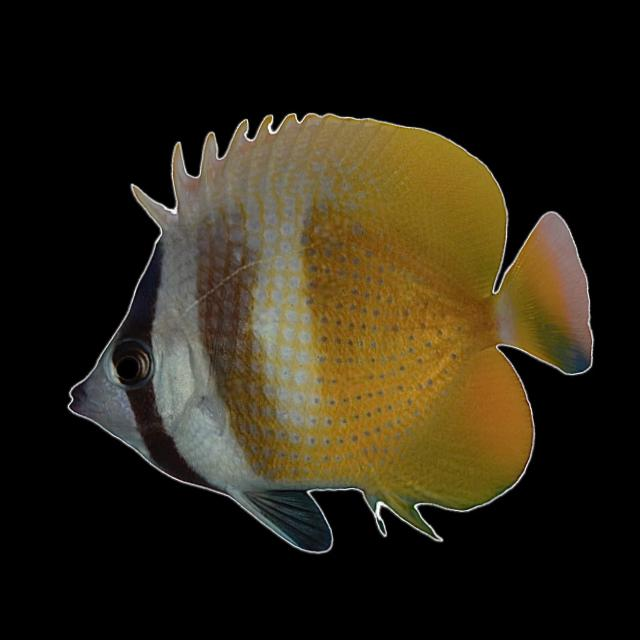ButterflyFish: (65, 106, 598, 564)
